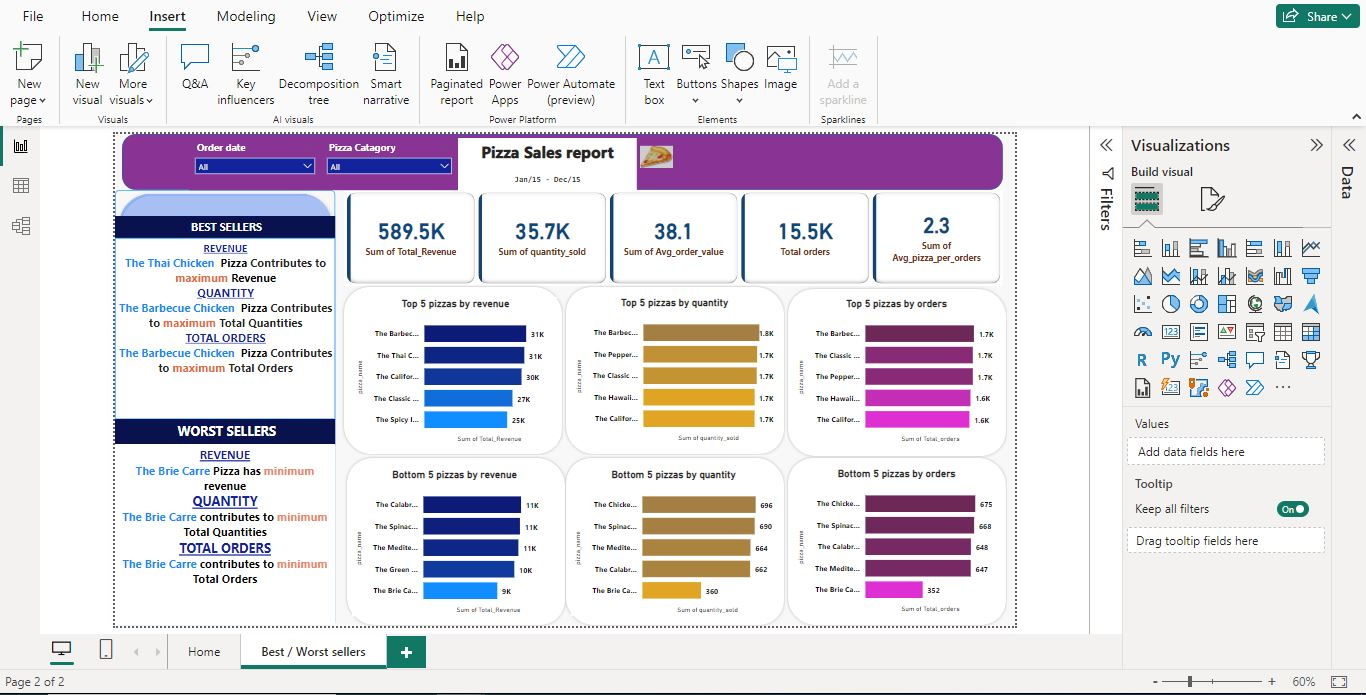

The page's visual inventory and layout, read from the dashboard file:
{"tool":"powerbi","page":{"name":"Best / Worst sellers","canvas":[1500,820],"ordinal":1},"visuals":[{"type":"shape","box":[0,93.3,366.7,726.7],"z":0},{"type":"cardVisual","fields":{"Data":["Sum(Total_revenue.Total_Revenue)","Sum(Quantity of pizza sold.quantity_sold)","Sum(Avg order value.Avg_order_value)","Pizza sales project.Total orders","Sum(Avg pizza orders.Avg_pizza_per_orders)"]},"box":[381.7,93.3,1098.3,160],"z":1000},{"type":"shape","box":[11.7,0,1468.3,93.3],"z":2000},{"type":"textbox","box":[571.7,6.7,298.3,55],"z":3000},{"type":"textbox","box":[571.7,61.7,298.3,31.7],"z":4000},{"type":"image","box":[870,6.7,65,63.3],"z":5000},{"type":"shape","box":[746.7,535,370,285],"z":6000},{"type":"shape","box":[1116.7,535,370,285],"z":7000},{"type":"textbox","box":[0,136.7,366.7,36.7],"z":8000},{"type":"textbox","box":[0,173.3,366.7,301.7],"z":9000},{"type":"textbox","box":[0,475,366.7,41.7],"z":10000},{"type":"textbox","box":[0,516.7,366.7,303.3],"z":11000},{"type":"slicer","fields":{"Values":["Total pizza sold by pizza catagory.pizza_category"]},"box":[343.3,6.7,228.3,86.7],"z":12000},{"type":"slicer","fields":{"Values":["Pizza sales project.new_order_date"]},"box":[123.3,6.7,220,86.7],"z":13000},{"type":"shape","box":[376.7,250,370,285],"z":14000},{"type":"shape","box":[746.7,250,370,285],"z":15000},{"type":"shape","box":[1116.7,253.3,370,285],"z":16000},{"type":"shape","box":[381.7,535,370,285],"z":17000},{"type":"barChart","title":"Top 5 pizzas by revenue","fields":{"Category":["Total revenue by pizza name.pizza_name"],"Y":["Sum(Total revenue by pizza name.Total_Revenue)"]},"box":[396.7,271.7,340,246.7],"z":18000},{"type":"barChart","title":"Bottom 5 pizzas by revenue","fields":{"Category":["Total revenue by pizza name.pizza_name"],"Y":["Sum(Total revenue by pizza name.Total_Revenue)"]},"box":[395,556.7,340,246.7],"z":19000},{"type":"barChart","title":"Top 5 pizzas by quantity","fields":{"Category":["Total revenue by pizza name.pizza_name"],"Y":["Sum(pizza quantity sold by pizza name.quantity_sold)"]},"box":[761.7,270,340,246.7],"z":20000},{"type":"barChart","title":"Bottom 5 pizzas by quantity","fields":{"Category":["Total revenue by pizza name.pizza_name"],"Y":["Sum(pizza quantity sold by pizza name.quantity_sold)"]},"box":[760,556,340,246],"z":21000},{"type":"barChart","title":"Top 5 pizzas by orders","fields":{"Category":["Total revenue by pizza name.pizza_name"],"Y":["Sum(Total orders.Total_orders)"]},"box":[1132,272,340,246],"z":22000},{"type":"barChart","title":"Bottom 5 pizzas by orders","fields":{"Category":["Total revenue by pizza name.pizza_name"],"Y":["Sum(Total orders.Total_orders)"]},"box":[1131.7,555,340,246.7],"z":23000}]}

Visuals, with their boxes on the page's 1500x820 design canvas (x1, y1, x2, y2). These are canvas units, not pixel positions in the 1366x695 screenshot, which may show the page scaled, cropped or inside an application window:
shape: bbox(0, 93, 367, 820)
cardVisual - Sum(Total_revenue.Total_Revenue) x Sum(Quantity of pizza sold.quantity_sold): bbox(382, 93, 1480, 253)
shape: bbox(12, 0, 1480, 93)
textbox: bbox(572, 7, 870, 62)
textbox: bbox(572, 62, 870, 93)
image: bbox(870, 7, 935, 70)
shape: bbox(747, 535, 1117, 820)
shape: bbox(1117, 535, 1487, 820)
textbox: bbox(0, 137, 367, 173)
textbox: bbox(0, 173, 367, 475)
textbox: bbox(0, 475, 367, 517)
textbox: bbox(0, 517, 367, 820)
slicer - Total pizza sold by pizza catagory.pizza_category: bbox(343, 7, 572, 93)
slicer - Pizza sales project.new_order_date: bbox(123, 7, 343, 93)
shape: bbox(377, 250, 747, 535)
shape: bbox(747, 250, 1117, 535)
shape: bbox(1117, 253, 1487, 538)
shape: bbox(382, 535, 752, 820)
"Top 5 pizzas by revenue" barChart: bbox(397, 272, 737, 518)
"Bottom 5 pizzas by revenue" barChart: bbox(395, 557, 735, 803)
"Top 5 pizzas by quantity" barChart: bbox(762, 270, 1102, 517)
"Bottom 5 pizzas by quantity" barChart: bbox(760, 556, 1100, 802)
"Top 5 pizzas by orders" barChart: bbox(1132, 272, 1472, 518)
"Bottom 5 pizzas by orders" barChart: bbox(1132, 555, 1472, 802)
